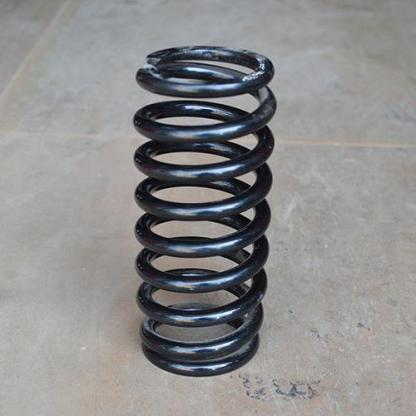FOD: (127, 37, 287, 385)
